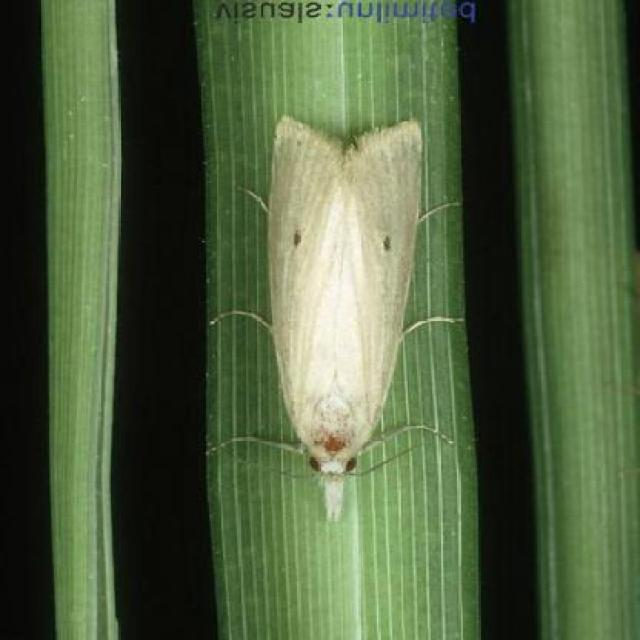stem-borer: (222, 113, 456, 524)
